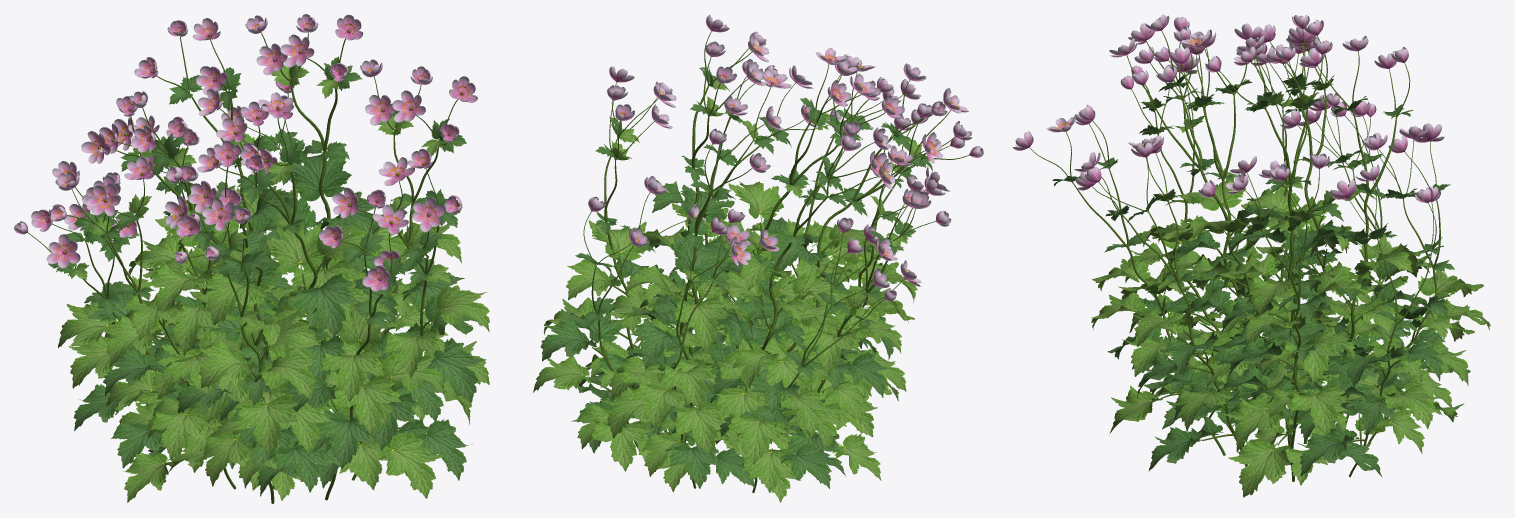
File: Anemone_Hybrida.fbx
The picture shows the model from 3 angles, left to right: view 1: azimuth 30°, elevation 25°; view 2: azimuth 150°, elevation 25°; view 3: azimuth 270°, elevation 25°; orthographic projection. The views are drawn at different scales.
Parts seen in each view (by area): view 1: Anemone_hybrida v01 m001.003, Anemone_hybrida v01 m001.002, Anemone_hybrida v01 m001.004, Anemone_hybrida v01 m001.001; view 2: Anemone_hybrida v01 m001.003, Anemone_hybrida v01 m001.002, Anemone_hybrida v01 m001.001, Anemone_hybrida v01 m001.004; view 3: Anemone_hybrida v01 m001.003, Anemone_hybrida v01 m001.002, Anemone_hybrida v01 m001.001, Anemone_hybrida v01 m001.004.
Boxes of the visible parts, <box> form: Anemone_hybrida v01 m001.003: <box>48,140,489,502</box>; Anemone_hybrida v01 m001.002: <box>14,14,477,291</box>; Anemone_hybrida v01 m001.004: <box>80,56,466,330</box>; Anemone_hybrida v01 m001.001: <box>27,32,458,503</box>; Anemone_hybrida v01 m001.003: <box>533,180,917,502</box>; Anemone_hybrida v01 m001.002: <box>588,15,983,300</box>; Anemone_hybrida v01 m001.001: <box>583,31,969,492</box>; Anemone_hybrida v01 m001.004: <box>575,67,932,273</box>; Anemone_hybrida v01 m001.003: <box>1091,150,1490,497</box>; Anemone_hybrida v01 m001.002: <box>1012,14,1444,202</box>; Anemone_hybrida v01 m001.001: <box>1029,29,1440,481</box>; Anemone_hybrida v01 m001.004: <box>1052,70,1443,254</box>.
Bounding box in the file's own units: 65.26 × 67.58 × 70.21.
7 materials, 7 textured.
